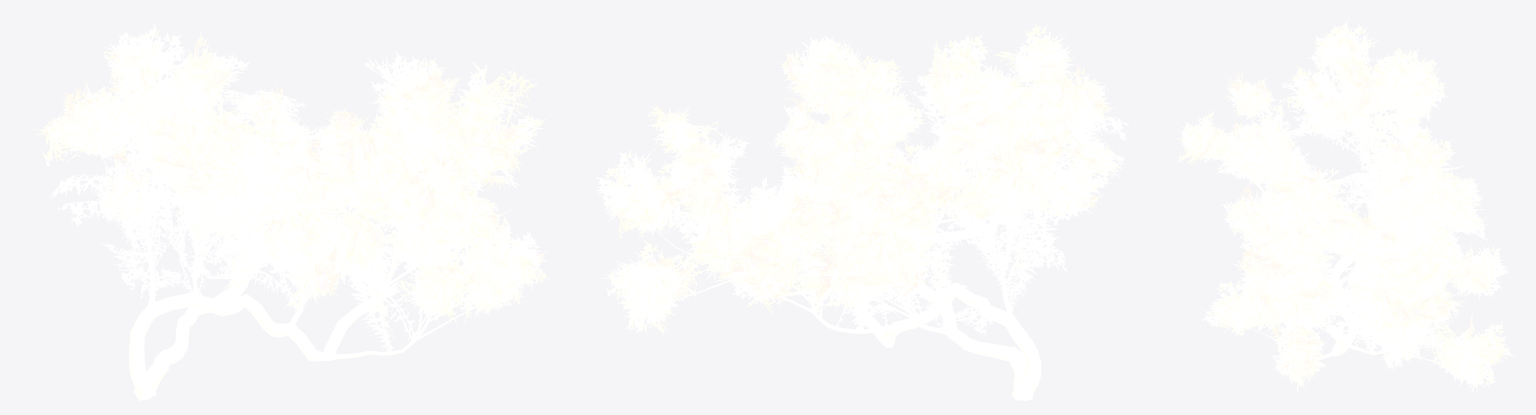
3 renders of one model, left to right at view 1: azimuth 30°, elevation 25°; view 2: azimuth 150°, elevation 25°; view 3: azimuth 270°, elevation 25°, orthographic. The views are drawn at different scales.
Visible parts, largest first — view 1: SM_Gorse_03_LOD0; view 2: SM_Gorse_03_LOD0; view 3: SM_Gorse_03_LOD0.
Boxes of the visible parts, x1,y1,x2,y2 form: SM_Gorse_03_LOD0: (22,23,549,400); SM_Gorse_03_LOD0: (591,22,1129,400); SM_Gorse_03_LOD0: (1171,20,1514,395).
Size of the model in its own units: 3.97 by 2.63 by 3.06.
1 material, 1 textured.
